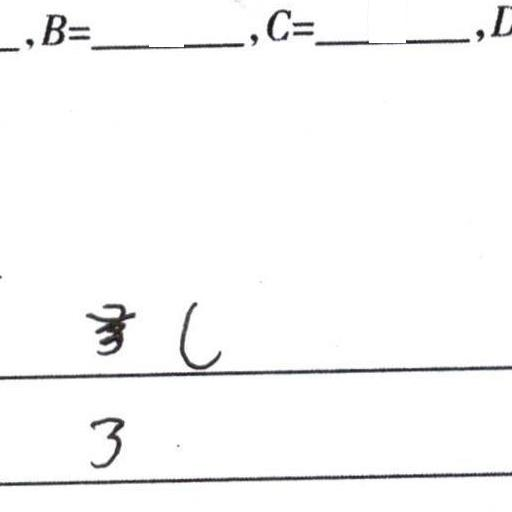ans: (173, 297, 224, 373), (86, 413, 126, 470)
